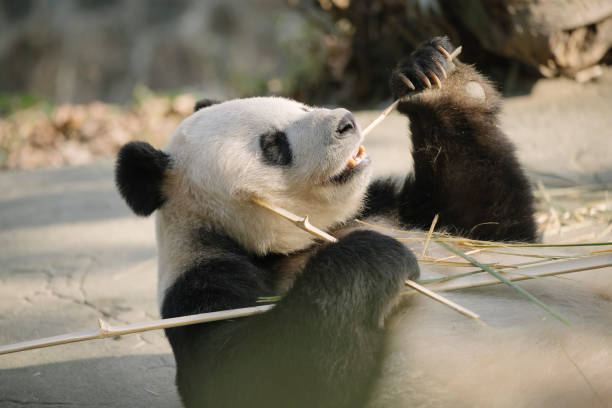panda: (94, 70, 396, 301)
